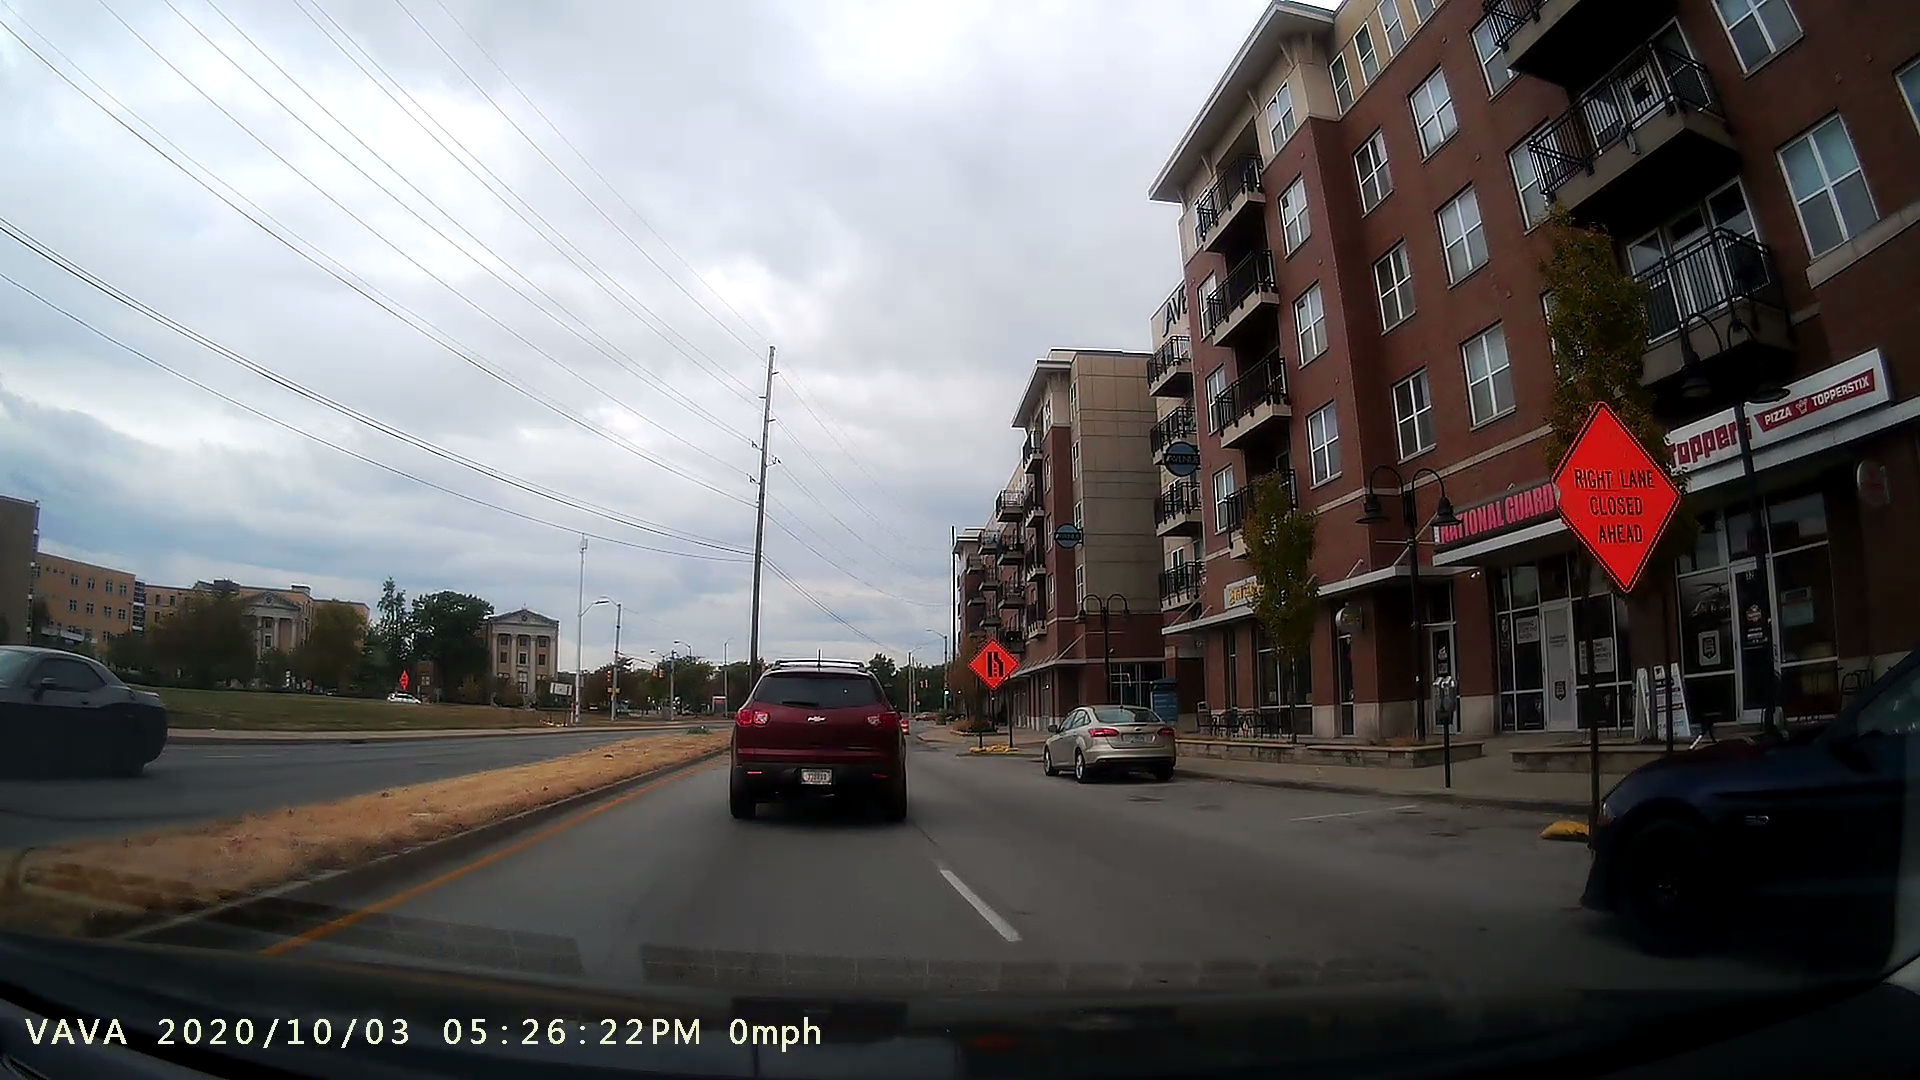ttcs_right_lane_closed_ahead: (1542, 396, 1704, 851)
ttcs_right_lane_reduction: (957, 632, 1025, 757)
